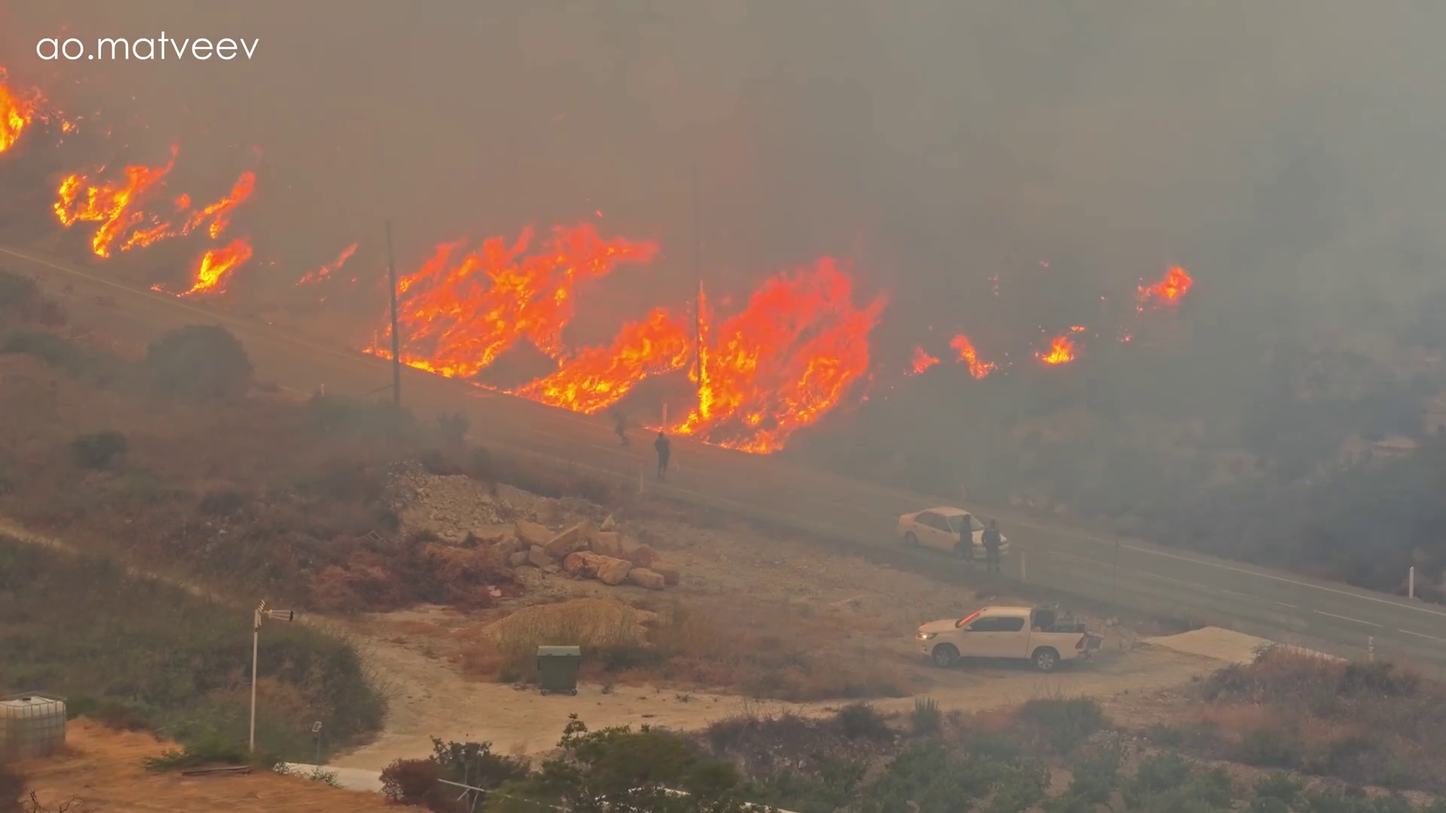forest_fire: (395, 223, 884, 452), (53, 163, 255, 294), (0, 84, 42, 151), (949, 334, 999, 378), (1139, 267, 1192, 303), (1037, 327, 1083, 364), (909, 347, 942, 373)
